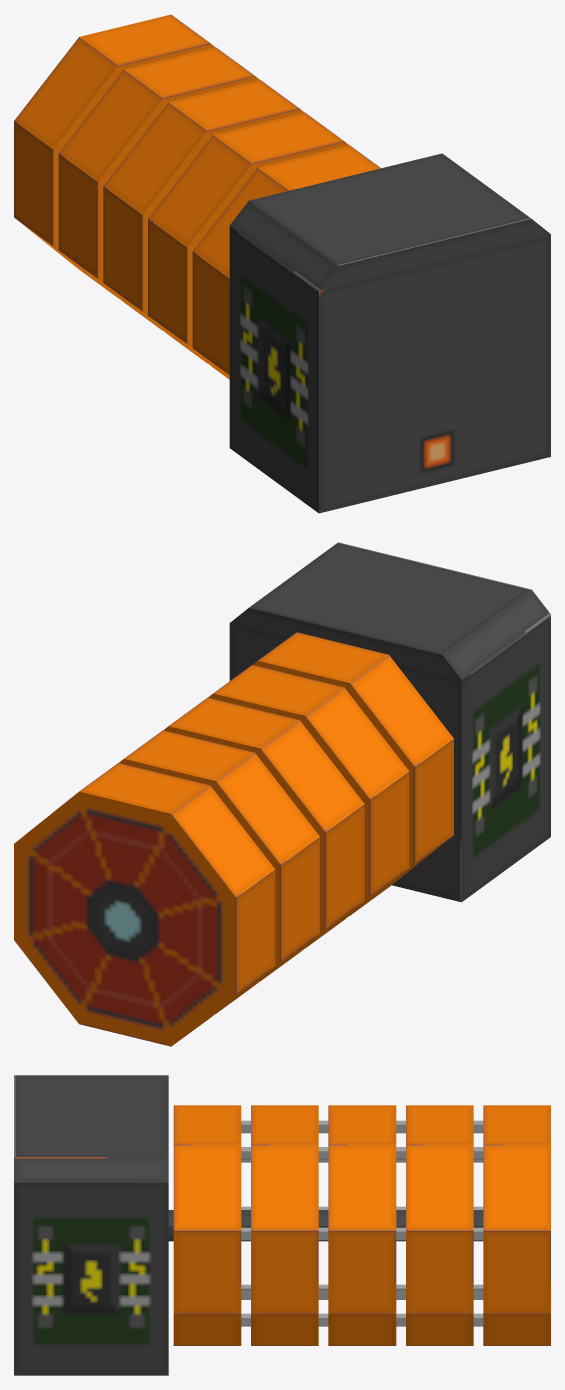
Rendered from fel.obj.
The picture shows the model from 3 angles, top to bottom: view 1: azimuth 30°, elevation 25°; view 2: azimuth 150°, elevation 25°; view 3: azimuth 270°, elevation 25°; orthographic projection. The views are drawn at different scales.
Visible parts, largest first — view 1: cube; view 2: cube; view 3: cube.
Part boxes in pixels (x1,y1,x2,y2): cube: (14,14,550,513); cube: (14,542,550,1046); cube: (14,1075,550,1375).
Size of the model in its own units: 3 by 3 by 6.94.
